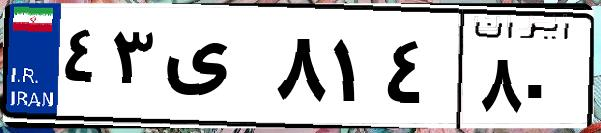0: (525, 38, 570, 115)
1: (330, 28, 385, 110)
3: (110, 28, 158, 98)
4: (385, 28, 445, 110), (57, 26, 110, 100)
8: (270, 28, 330, 110), (475, 38, 525, 113)
ی: (158, 20, 270, 120)
